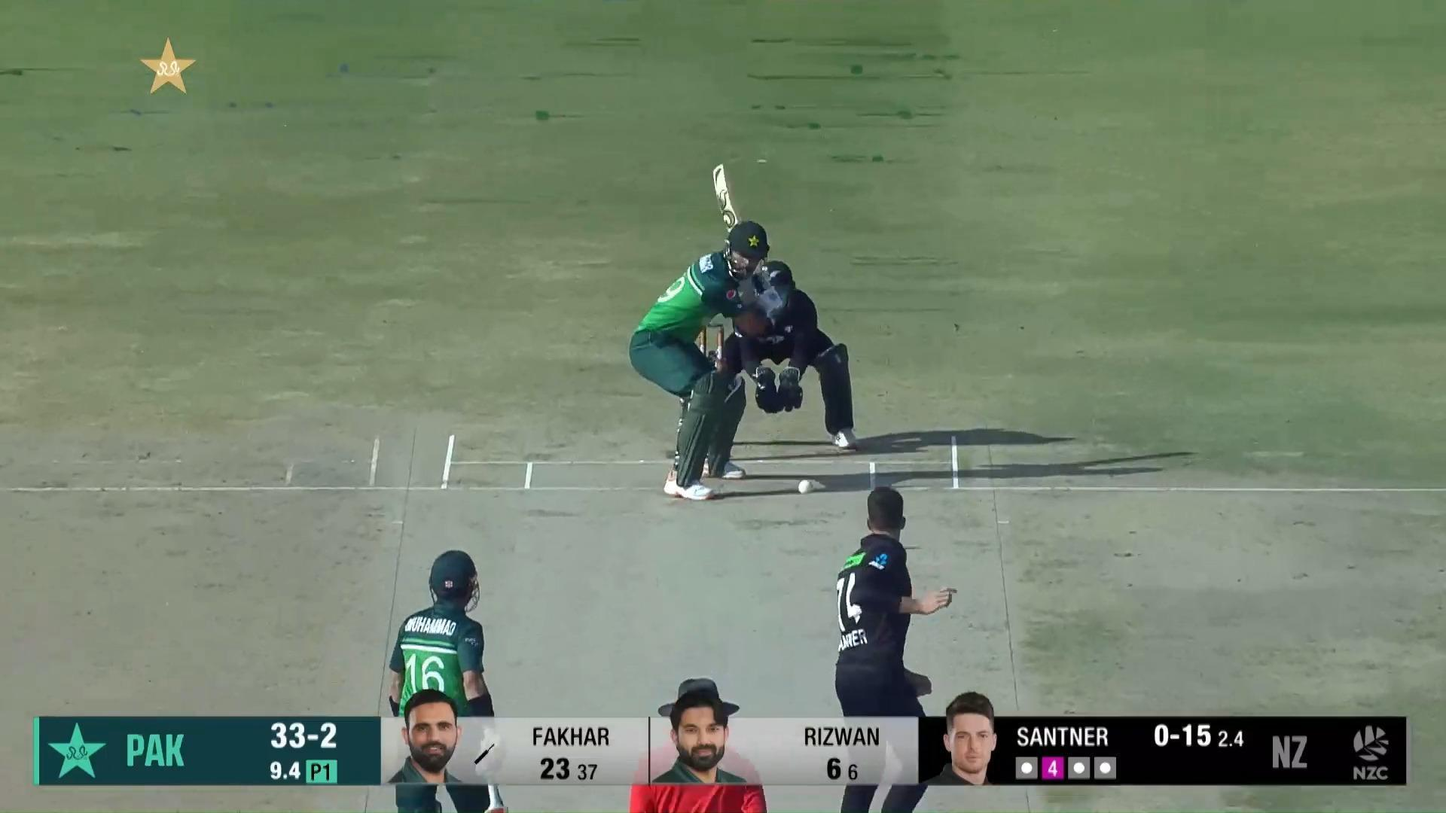BM 1: (628, 161, 784, 502)
BO: (831, 484, 960, 813)
